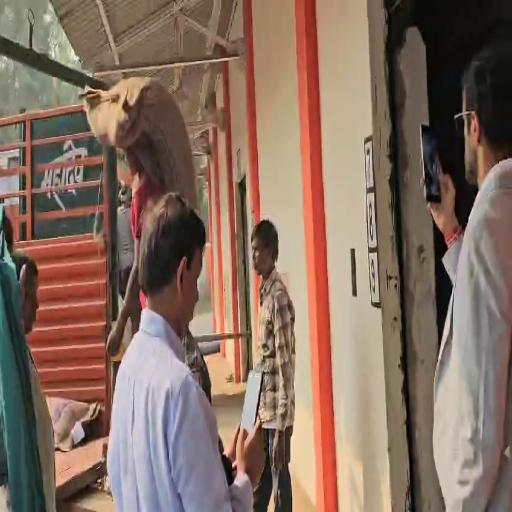bag: (79, 71, 201, 214)
